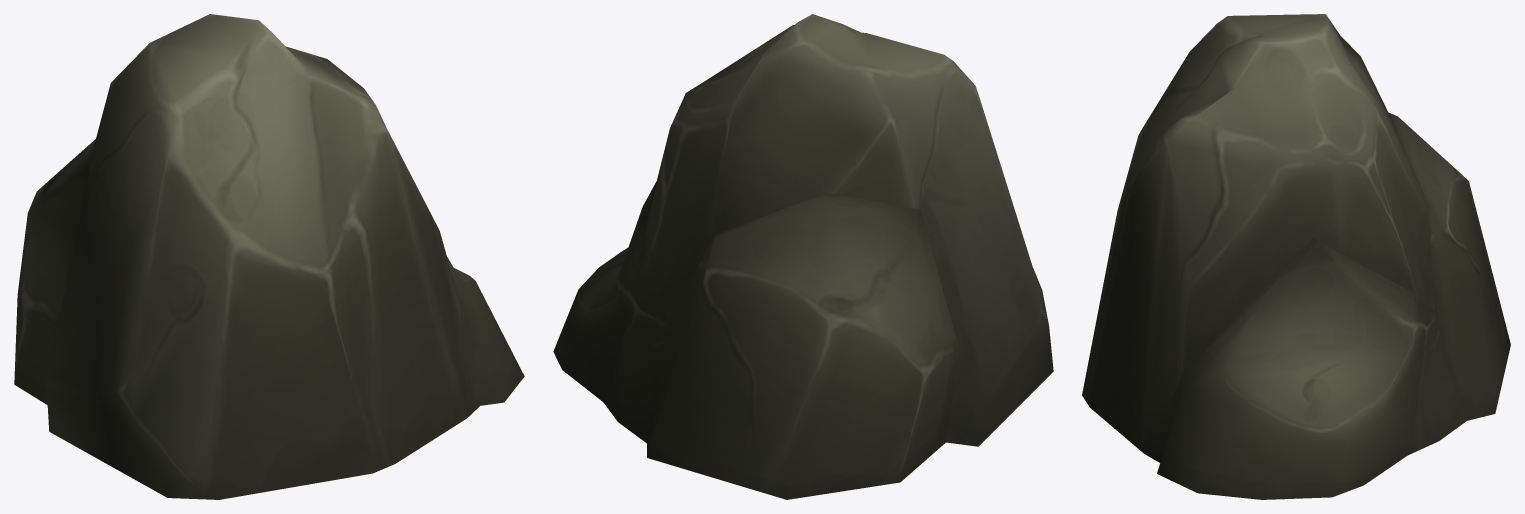
File: Rock_3.FBX
The picture shows the model from 3 angles, left to right: view 1: azimuth 30°, elevation 25°; view 2: azimuth 150°, elevation 25°; view 3: azimuth 270°, elevation 25°; orthographic projection. The views are drawn at different scales.
Visible parts, largest first — view 1: Rock_3; view 2: Rock_3; view 3: Rock_3.
Boxes of the visible parts, <box> form: Rock_3: <box>14,14,524,499</box>; Rock_3: <box>553,14,1053,499</box>; Rock_3: <box>1082,14,1510,499</box>.
Bounding box in the file's own units: 42.25 × 34.42 × 38.03.
